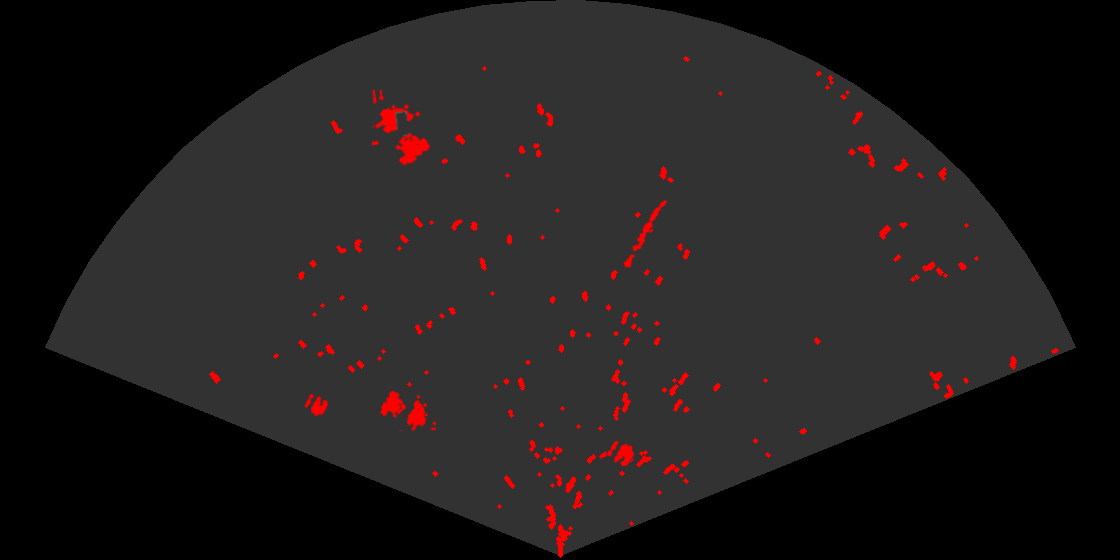ball: (605, 439, 636, 468), (303, 392, 330, 418)
cage: (372, 90, 432, 168), (378, 389, 436, 431)
chain: (621, 198, 669, 272)
